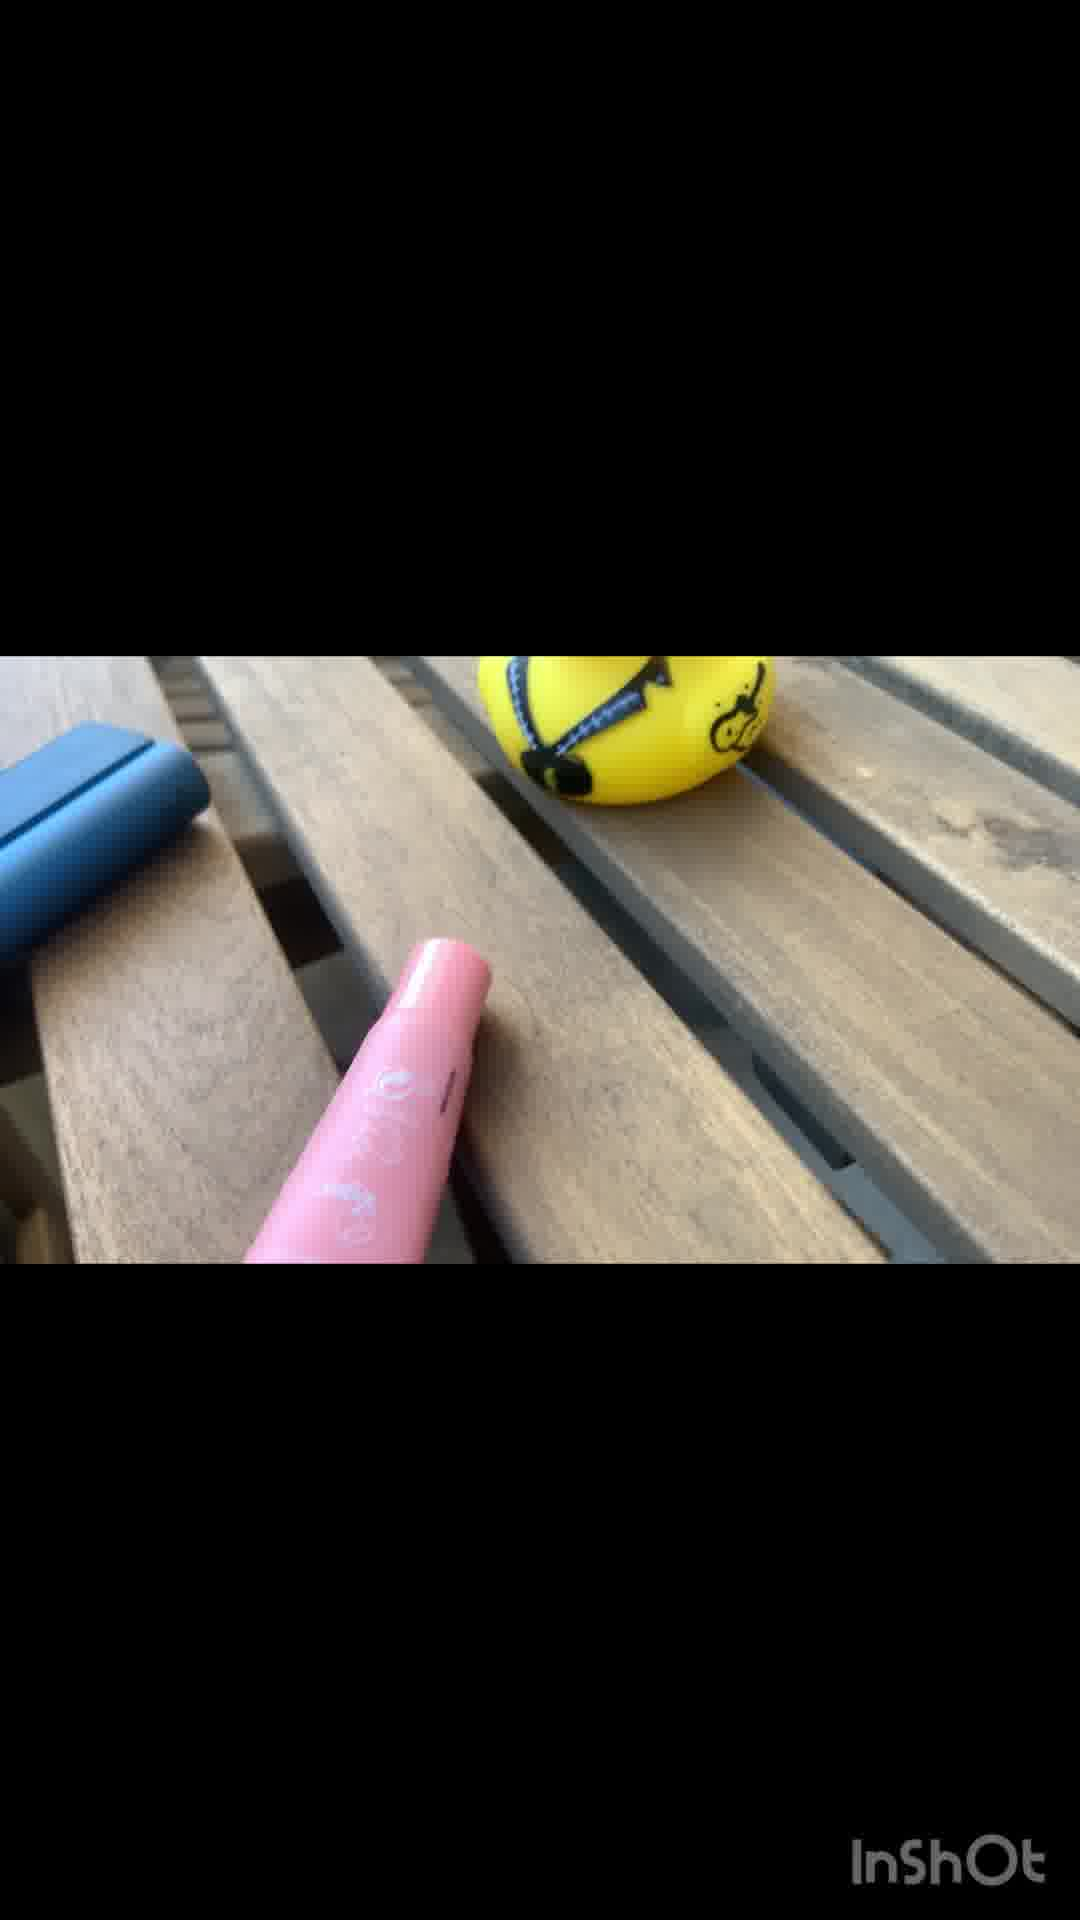duck: (487, 649, 769, 822)
glo: (1, 708, 215, 949)
lip balm: (255, 931, 518, 1251)
